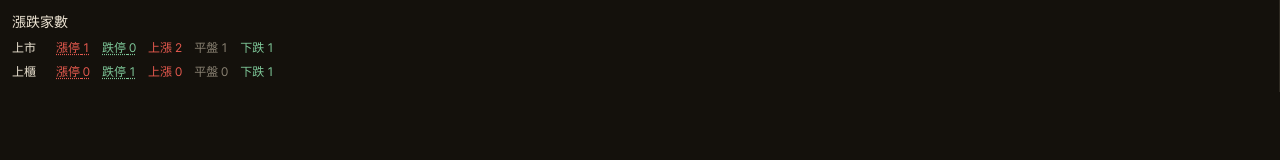
Test: MarketBreadthPanel — MK-5 漲跌家數 › 上櫃跌停清單獨立展開
Click the button with aria-label "上櫃跌停清單": x=119, y=72 [102,64,136,80]
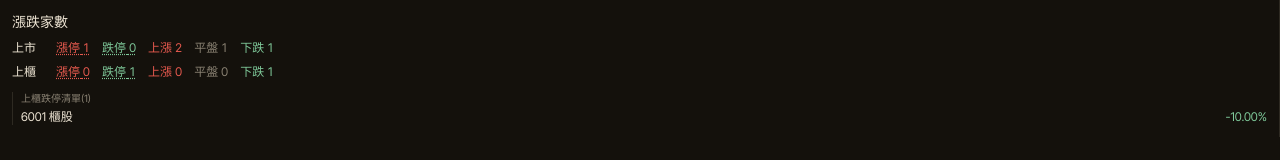
Result: the element with test id "breadth-list" shows "櫃股" at [21,109,1267,125]
